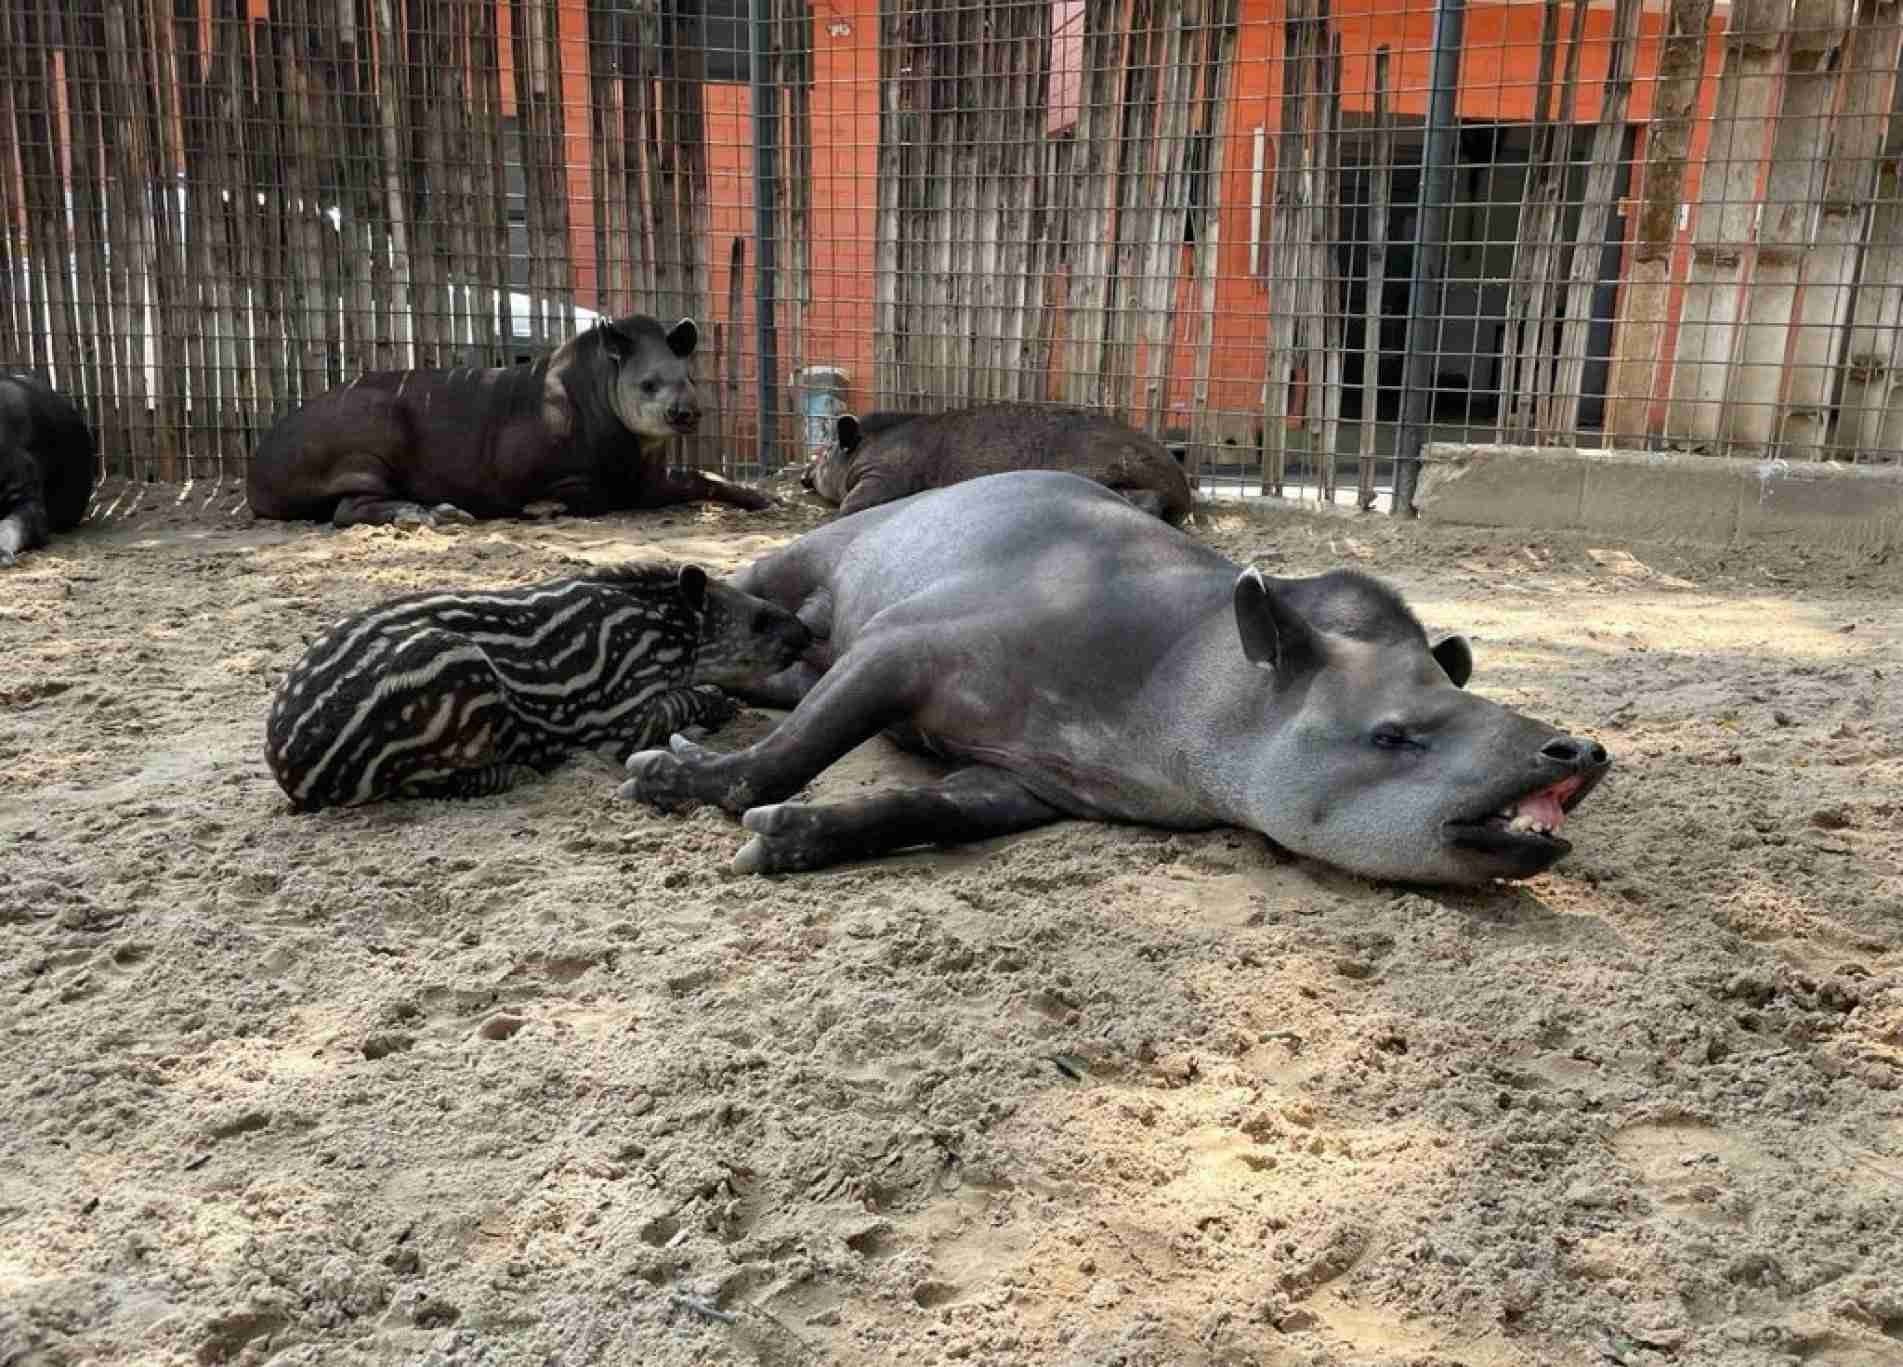Anta: (759, 463, 1631, 933), (242, 514, 817, 816), (223, 312, 767, 511), (782, 375, 1216, 514)
